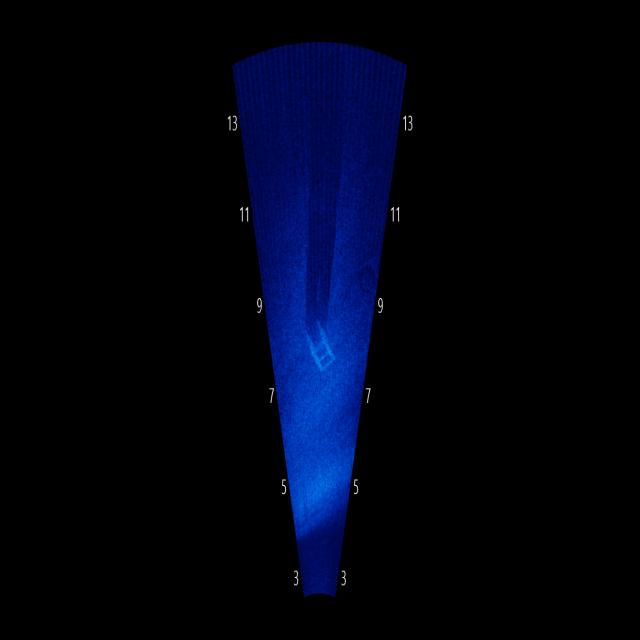square: (308, 308, 336, 375)
